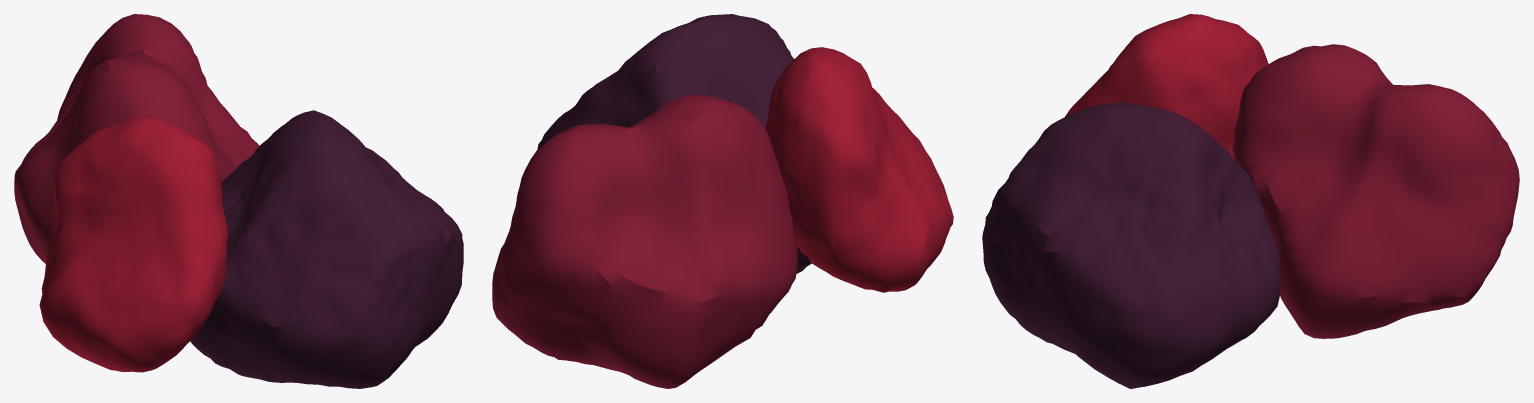
Rendered from pedras vermelhas.fbx.
3 renders of one model, left to right at view 1: azimuth 30°, elevation 25°; view 2: azimuth 150°, elevation 25°; view 3: azimuth 270°, elevation 25°, orthographic. The views are drawn at different scales.
Visible parts, largest first — view 1: rock.004; view 2: rock.004; view 3: rock.004.
Part boxes in pixels (left/top/right/bottom): rock.004: left=14, top=14, right=463, bottom=388; rock.004: left=492, top=14, right=953, bottom=388; rock.004: left=982, top=14, right=1519, bottom=388.
Size of the model in its own units: 187 by 121 by 220.
